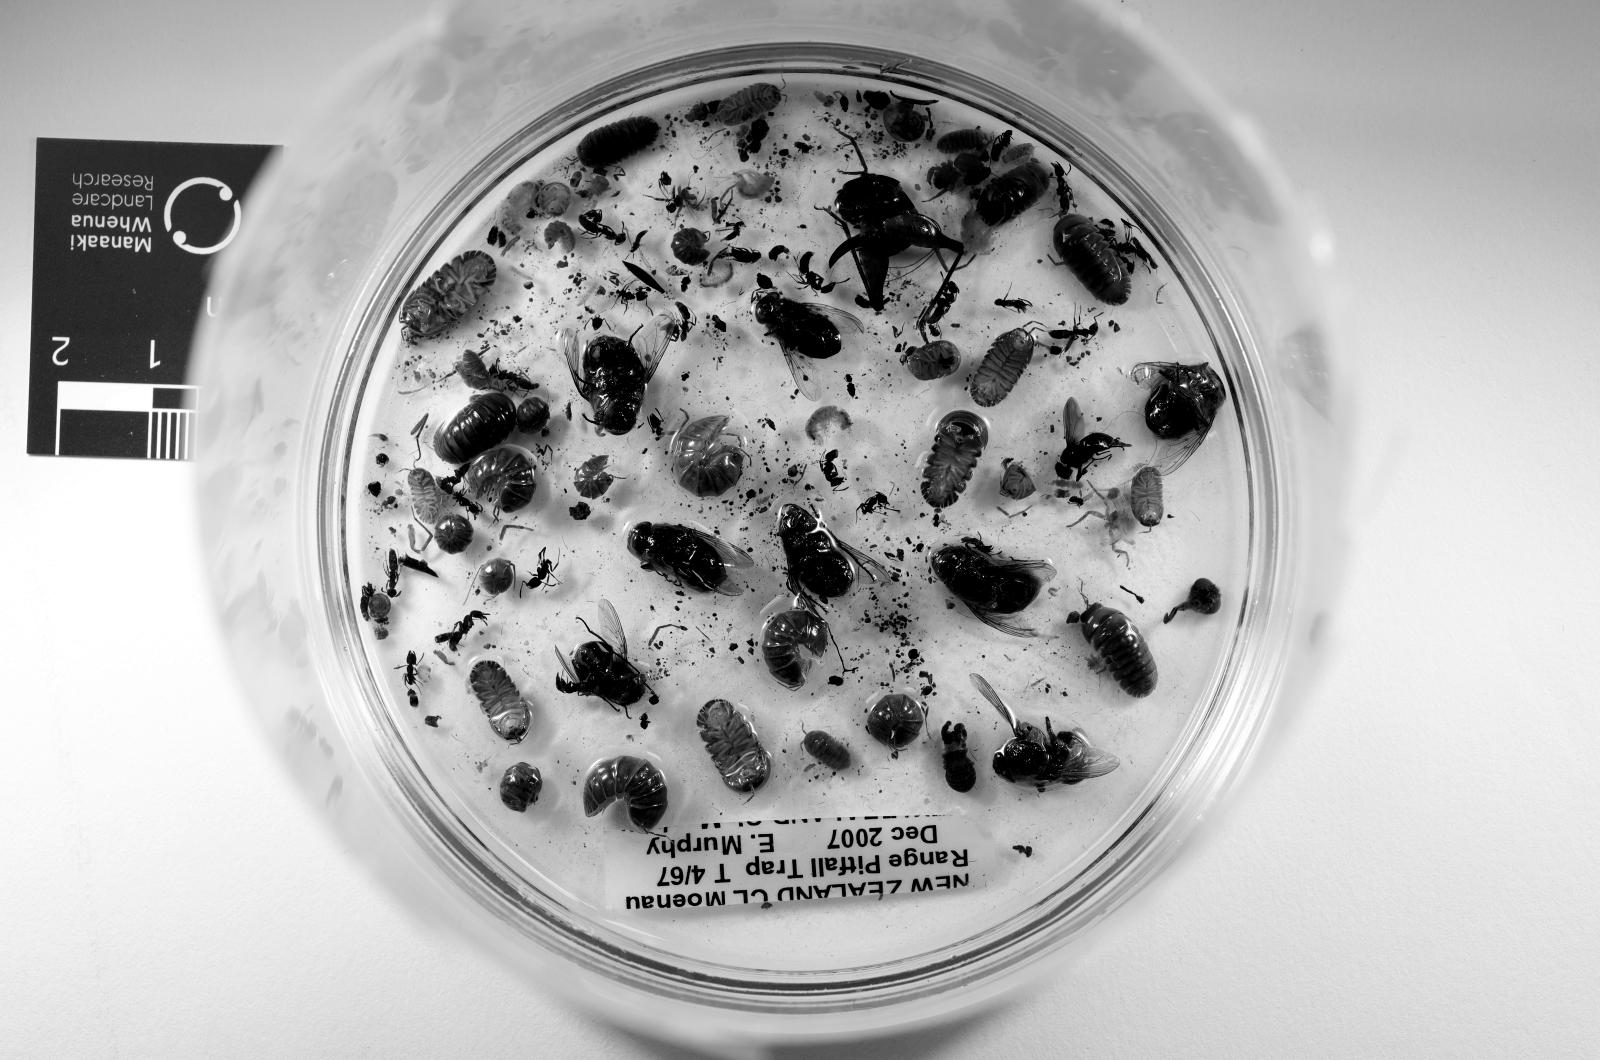amphipoda: (497, 180, 538, 239), (807, 407, 853, 444), (959, 208, 993, 254), (700, 260, 734, 289)
araneae: (925, 153, 984, 195)
coleoptera: (966, 164, 991, 187), (862, 90, 890, 109), (731, 248, 759, 264)
diptera: (972, 674, 1119, 791), (556, 314, 672, 435), (931, 537, 1056, 640), (753, 289, 862, 401), (778, 503, 890, 602), (1132, 363, 1225, 476), (556, 600, 647, 711), (628, 522, 753, 596), (1056, 397, 1128, 481)
formicidae: (447, 608, 487, 652), (578, 211, 626, 245), (799, 252, 837, 292), (1047, 323, 1097, 351), (491, 363, 540, 392), (403, 652, 428, 707), (525, 550, 556, 590), (441, 485, 481, 516), (928, 283, 959, 323), (1054, 161, 1075, 214), (856, 491, 900, 516), (818, 451, 843, 487), (991, 130, 1012, 161), (388, 550, 400, 600)
gastropoda: (881, 103, 928, 143), (369, 593, 390, 621)
isopoda: (400, 252, 497, 338), (1078, 602, 1157, 699), (1054, 214, 1132, 304), (697, 699, 769, 795), (584, 755, 669, 833), (922, 409, 987, 509), (669, 416, 747, 497), (434, 392, 516, 466), (969, 329, 1037, 407), (763, 608, 828, 690), (974, 159, 1050, 227), (468, 661, 531, 742), (462, 444, 535, 512), (578, 118, 660, 170), (866, 692, 925, 757), (715, 84, 782, 128), (903, 342, 959, 382), (803, 730, 850, 774), (500, 764, 540, 814), (407, 468, 441, 525), (1132, 466, 1162, 528), (434, 512, 472, 552), (575, 457, 613, 497), (938, 128, 991, 155), (478, 558, 516, 596), (535, 180, 572, 218), (456, 351, 491, 392), (516, 397, 550, 435), (672, 230, 710, 264), (544, 220, 575, 254), (1003, 143, 1035, 164)
opiliones: (940, 720, 974, 791)
orthoptera: (828, 164, 963, 310)
